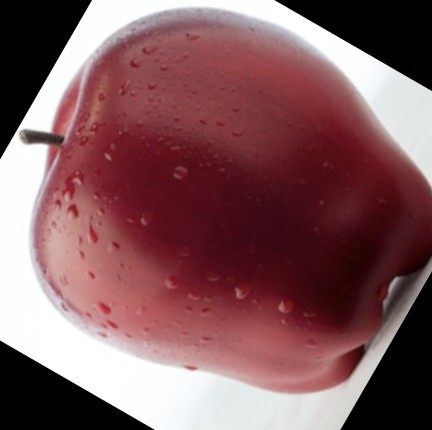fresh_apple: (30, 8, 432, 394)
